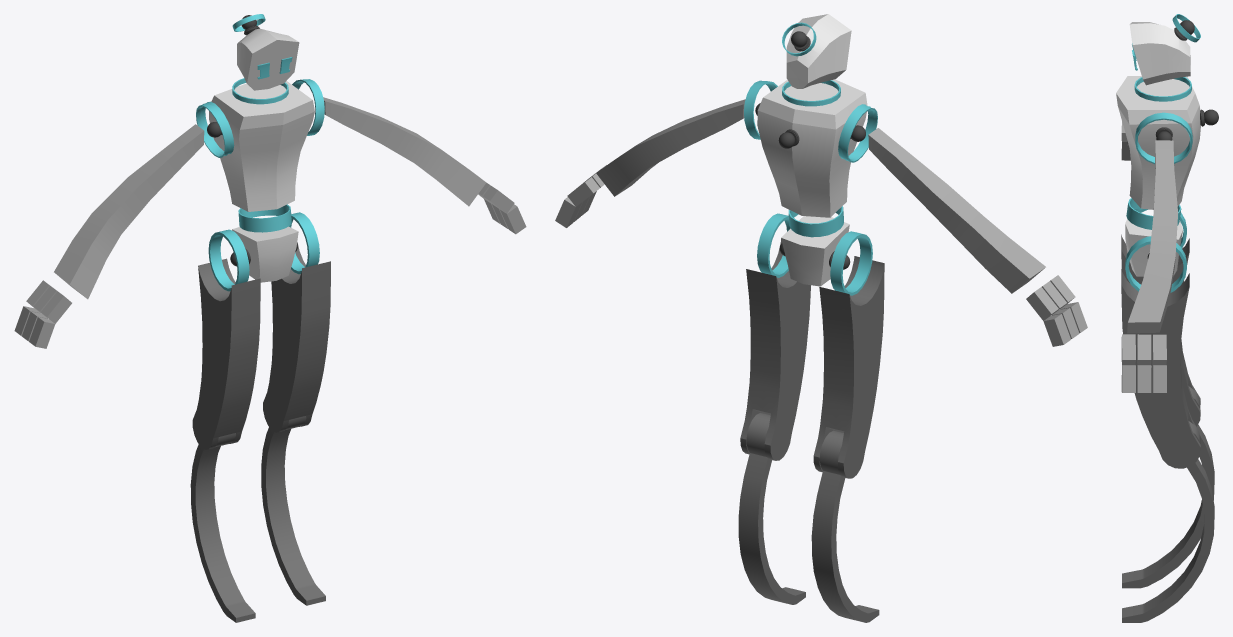
The model's file is Small_Bit_Bot.fbx.
The picture shows the model from 3 angles, left to right: view 1: azimuth 30°, elevation 25°; view 2: azimuth 150°, elevation 25°; view 3: azimuth 270°, elevation 25°; orthographic projection. The views are drawn at different scales.
Visible parts, largest first — view 1: Torso, rthigh, Left_Thigh, R_army, Left_Shin, right_lege, l_army, Da_Head, Bit_Pelvis, rhip, Waist, R_piped (+1 smaller); view 2: rthigh, Torso, Left_Thigh, R_army, Left_Shin, right_lege, l_army, Da_Head, Bit_Pelvis, rhip, R_piped, lhip (+1 smaller); view 3: Torso, Left_Thigh, l_army, Left_Shin, Da_Head, right_lege, rthigh, Bit_Pelvis, L_piped, lhip, Waist, neck (+11 smaller).
Boxes of the visible parts, box(x1,y1,x2,y2) form: Torso: box(209, 81, 314, 211); rthigh: box(192, 258, 260, 449); Left_Thigh: box(263, 242, 330, 432); R_army: box(54, 124, 204, 299); Left_Shin: box(261, 416, 325, 605); right_lege: box(190, 433, 255, 622); l_army: box(323, 97, 486, 206); Da_Head: box(237, 28, 299, 90); Bit_Pelvis: box(232, 226, 298, 282); rhip: box(208, 229, 249, 291); Waist: box(238, 204, 291, 232); R_piped: box(196, 101, 234, 157); rthigh: box(813, 256, 884, 478); Torso: box(757, 79, 867, 217); Left_Thigh: box(740, 239, 810, 460); R_army: box(868, 128, 1045, 293); Left_Shin: box(738, 413, 805, 604); right_lege: box(811, 430, 879, 622); l_army: box(596, 99, 745, 196); Da_Head: box(786, 14, 851, 88); Bit_Pelvis: box(781, 216, 849, 286); rhip: box(830, 231, 872, 295); R_piped: box(838, 104, 877, 162); lhip: box(757, 213, 794, 277); Torso: box(1116, 76, 1200, 209); Left_Thigh: box(1121, 269, 1200, 468); l_army: box(1127, 140, 1178, 333); Left_Shin: box(1122, 421, 1214, 622); Da_Head: box(1129, 22, 1190, 85); right_lege: box(1122, 386, 1214, 588); rthigh: box(1121, 234, 1200, 426); Bit_Pelvis: box(1125, 219, 1182, 276); L_piped: box(1135, 112, 1192, 164); lhip: box(1125, 236, 1186, 292); Waist: box(1126, 198, 1181, 229); neck: box(1134, 77, 1191, 101).
Bounding box in the file's own units: 14.02 × 15.75 × 2.51.
